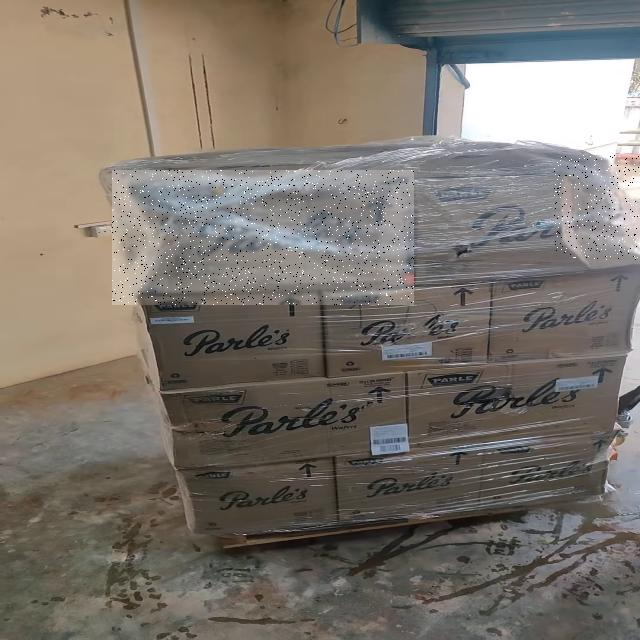squeeze: (113, 170, 414, 305), (554, 155, 640, 260)
